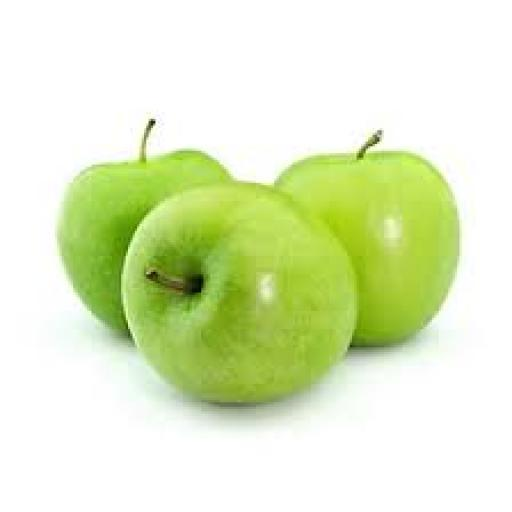apple: (124, 183, 356, 402), (277, 133, 459, 345), (58, 119, 228, 331)
